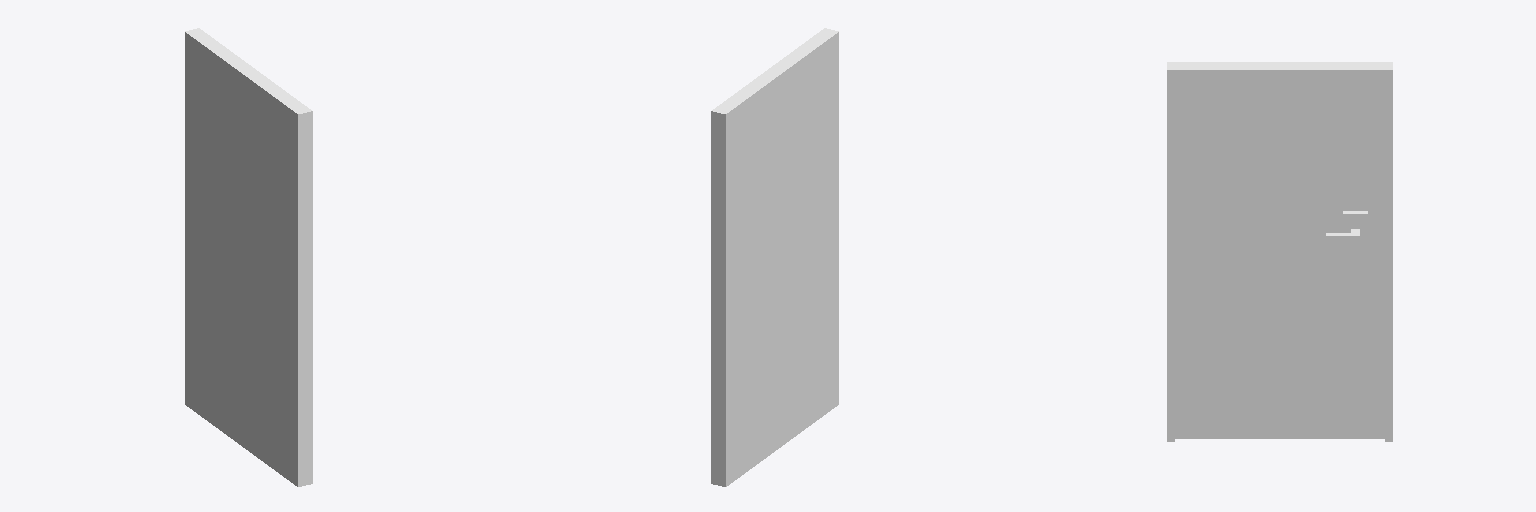
File: porta.obj
3 renders of one model, left to right at view 1: azimuth 30°, elevation 25°; view 2: azimuth 150°, elevation 25°; view 3: azimuth 270°, elevation 25°, orthographic.
Visible parts, largest first — view 1: object 1; view 2: object 1; view 3: object 1.
Part boxes in pixels (x1,y1,x2,y2): object 1: (185, 28, 312, 486); object 1: (711, 28, 838, 486); object 1: (1167, 62, 1392, 441).
Bounding box in the file's own units: 0.4 × 4.9 × 2.7.